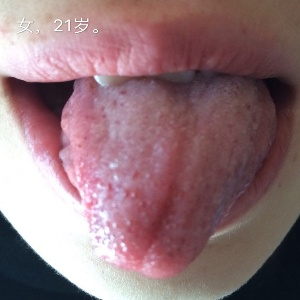st: (55, 95, 281, 279)
